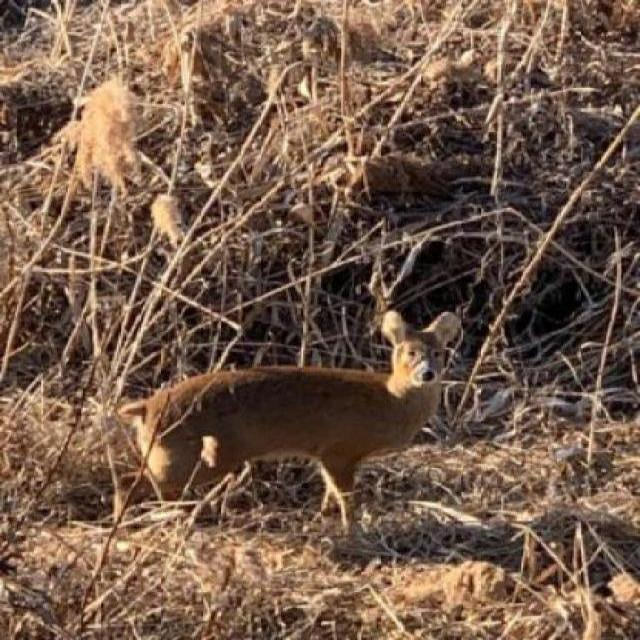deer: (93, 295, 492, 553)
